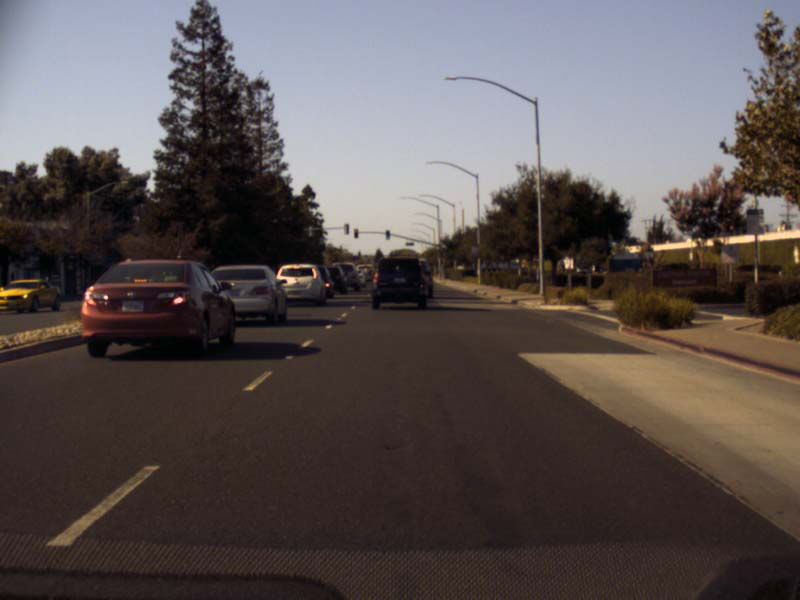Green: (385, 230, 389, 239)
Red: (354, 229, 358, 238)
